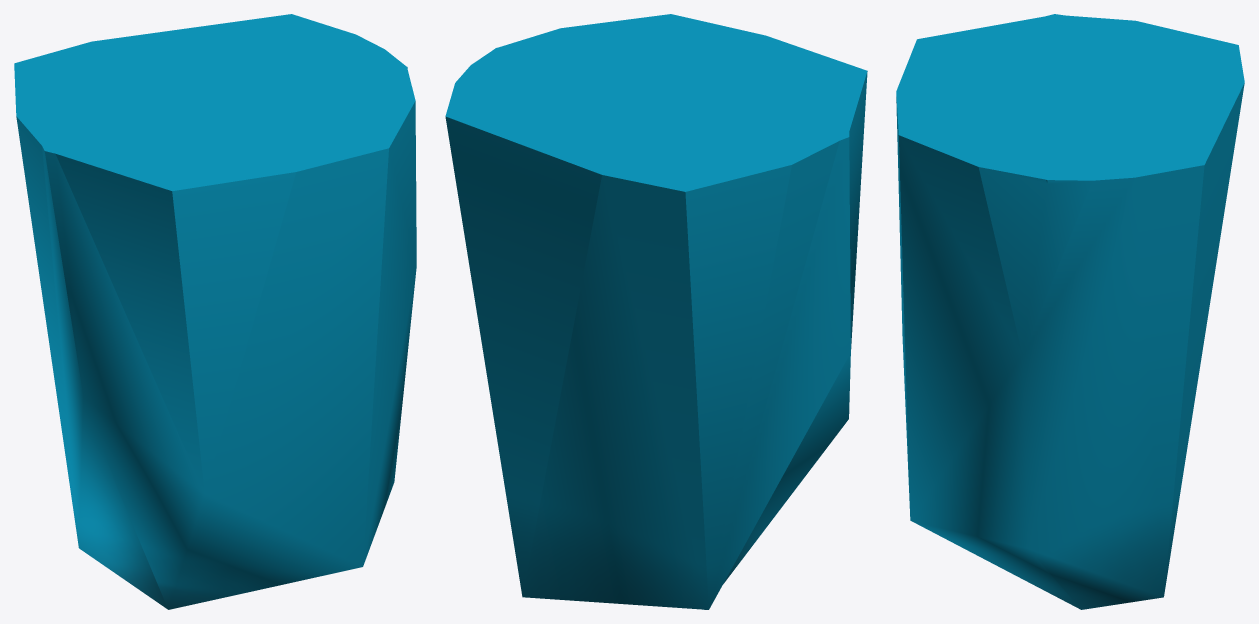
The model's file is BlueSuke_leg_r.obj.
The picture shows the model from 3 angles, left to right: view 1: azimuth 30°, elevation 25°; view 2: azimuth 150°, elevation 25°; view 3: azimuth 270°, elevation 25°; orthographic projection. The views are drawn at different scales.
Visible parts, largest first — view 1: ENEMY_LEG_R; view 2: ENEMY_LEG_R; view 3: ENEMY_LEG_R.
Boxes of the visible parts, x1,y1,x2,y2 form: ENEMY_LEG_R: (14, 14, 416, 609); ENEMY_LEG_R: (445, 14, 867, 609); ENEMY_LEG_R: (896, 14, 1244, 609).
Size of the model in its own units: 0.4523 by 0.6044 by 0.4017.
1 material, 1 textured.
